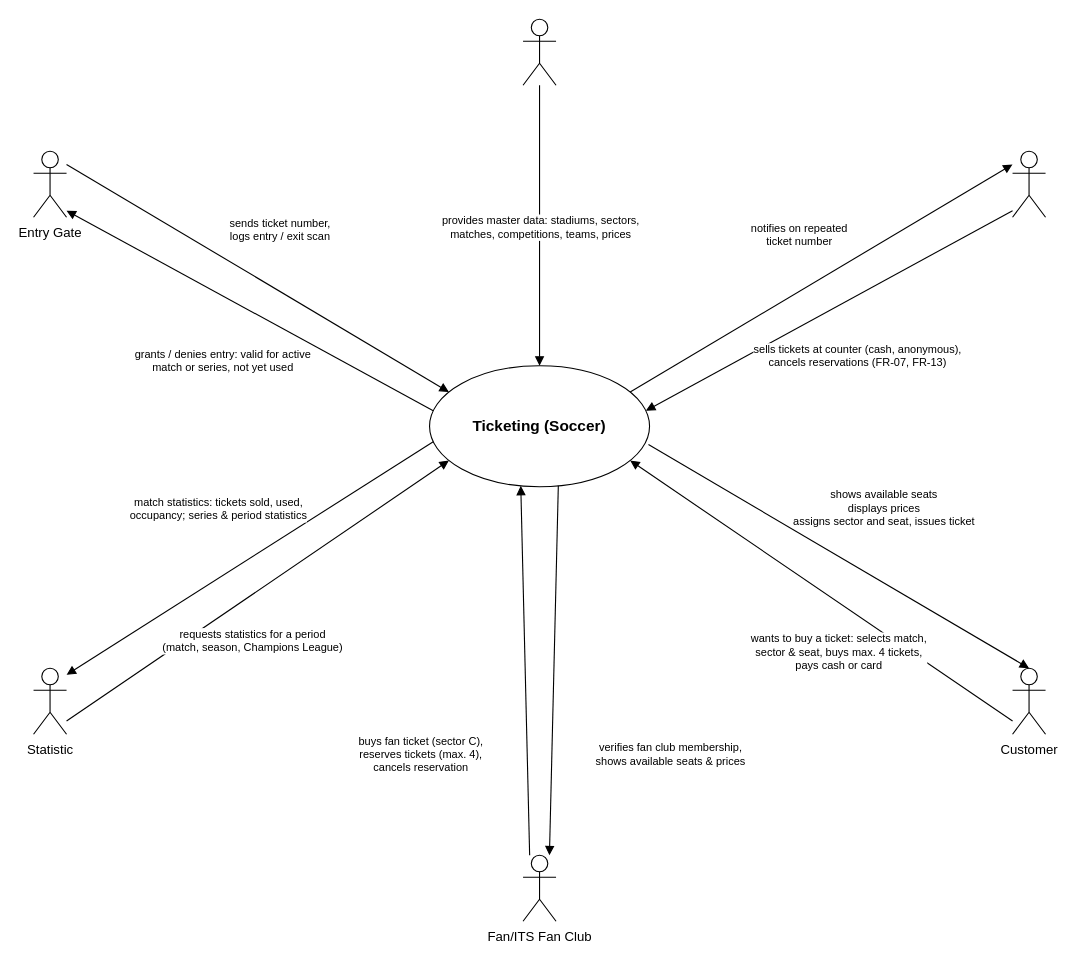
Some shapes in this 1087 by 964 pixel diagram are drawn without their labels. The centre of each missing label's shape, as x and y in pixels:
RB Salzburg: the point at 539,51
Security/Staff: the point at 1028,183
